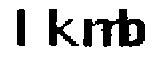b: (118, 6, 149, 52)
k: (43, 6, 78, 50)
l: (15, 6, 34, 50)
m: (79, 16, 123, 52)
